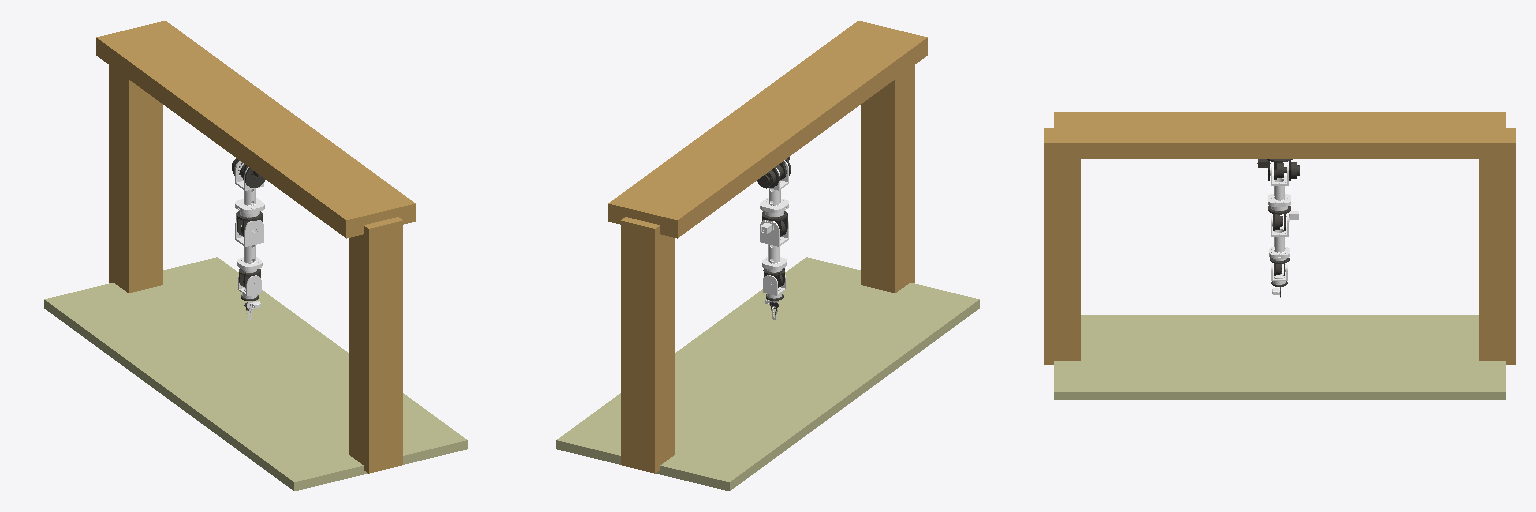
robot.urdf — daadbot:
<?xml version='1.0' encoding='utf-8'?>
<robot name="daadbot">
  
  <gazebo>
    <plugin filename="ign_ros2_control-system" name="ign_ros2_control::IgnitionROS2ControlPlugin">
      <parameters>/home/maryammahmood/xdaadbot_ws/install/daadbot_controller/share/daadbot_controller/config/effort_command_controller.yaml</parameters>
    </plugin>
  </gazebo>
  <ros2_control name="Manipulator" type="system">
    <hardware>
      <plugin>ign_ros2_control/IgnitionSystem</plugin>
    </hardware>
    <joint name="base_claw_joint1">
      <param name="mimic">gear1_joint</param>
      <param name="multiplier">-1</param>
      <state_interface name="position" />
      <state_interface name="velocity" />
      <state_interface name="effort" />
    </joint>
    <joint name="claw_joint1">
      <param name="mimic">base_claw_joint1</param>
      <param name="multiplier">1</param>
      <state_interface name="position" />
      <state_interface name="velocity" />
      <state_interface name="effort" />
    </joint>
    <joint name="gear2_joint">
      <param name="mimic">gear1_joint</param>
      <param name="multiplier">-1</param>
      <state_interface name="position" />
      <state_interface name="velocity" />
      <state_interface name="effort" />
    </joint>
    <joint name="base_claw_joint2">
      <param name="mimic">gear1_joint</param>
      <param name="multiplier">-1</param>
      <state_interface name="position" />
      <state_interface name="velocity" />
      <state_interface name="effort" />
    </joint>
    <joint name="claw_joint2">
      <param name="mimic">base_claw_joint2</param>
      <param name="multiplier">-1</param>
      <state_interface name="position" />
      <state_interface name="velocity" />
      <state_interface name="effort" />
    </joint>
    <joint name="joint_1">
      <command_interface name="effort">
        <param name="min">-18</param>
        <param name="max">18</param>
      </command_interface>
      <state_interface name="position" />
      <state_interface name="velocity" />
      <state_interface name="effort" />
    </joint>
    <joint name="joint_2">
      <command_interface name="effort">
        <param name="min">-39</param>
        <param name="max">39</param>
      </command_interface>
      <state_interface name="position" />
      <state_interface name="velocity" />
      <state_interface name="effort" />
    </joint>
    <joint name="joint_3">
      <command_interface name="effort">
        <param name="min">-18</param>
        <param name="max">18</param>
      </command_interface>
      <state_interface name="position" />
      <state_interface name="velocity" />
      <state_interface name="effort" />
    </joint>
    <joint name="joint_4">
      <command_interface name="effort">
        <param name="min">-18</param>
        <param name="max">18</param>
      </command_interface>
      <state_interface name="position" />
      <state_interface name="velocity" />
      <state_interface name="effort" />
    </joint>
    <joint name="joint_5">
      <command_interface name="effort">
        <param name="min">-5</param>
        <param name="max">5</param>
      </command_interface>
      <state_interface name="position" />
      <state_interface name="velocity" />
      <state_interface name="effort" />
    </joint>
    <joint name="joint_6">
      <command_interface name="effort">
        <param name="min">-5</param>
        <param name="max">5</param>
      </command_interface>
      <state_interface name="position" />
      <state_interface name="velocity" />
      <state_interface name="effort" />
    </joint>
    <joint name="joint_7">
      <command_interface name="effort">
        <param name="min">-5</param>
        <param name="max">5</param>
      </command_interface>
      <state_interface name="position" />
      <state_interface name="velocity" />
      <state_interface name="effort" />
    </joint>
    <joint name="gear1_joint">
      <command_interface name="effort">
        <param name="min">-180</param>
        <param name="max">180</param>
      </command_interface>
      <state_interface name="position" />
      <state_interface name="velocity" />
      <state_interface name="effort" />
    </joint>
  </ros2_control>
  <link name="table_top">
    <inertial>
      <origin rpy="0 0 0" xyz="-0.000629 -0.000566 0.516365" />
      <mass value="48.095098" />
      <inertia ixx="10.0" ixy="0" ixz="0" iyy="10.0" iyz="0" izz="10.0" />
    </inertial>
    <visual>
      <origin rpy="0 0 0" xyz="0 0 0" />
      <geometry>
        <box size="1.0 2.5 0.05" />
      </geometry>
      <material name="grey_base">
        <color rgba="0.81 0.81 0.63 1" />
      </material>
    </visual>
    <collision>
      <origin rpy="0 0 0" xyz="0 0 0" />
      <geometry>
        <box size="1.0 2.5 0.05" />
      </geometry>
    </collision>
    <visual>
      <origin rpy="0 0 0" xyz="0 1.2 0.675" />
      <geometry>
        <box size="0.2 0.2 1.35" />
      </geometry>
      <material name="wood_pillar_l">
        <color rgba="0.81 0.66 0.41 1" />
      </material>
    </visual>
    <collision>
      <origin rpy="0 0 0" xyz="0 1.2 0.675" />
      <geometry>
        <box size="0.2 0.2 1.35" />
      </geometry>
    </collision>
    <visual>
      <origin rpy="0 0 0" xyz="0 -1.2 0.675" />
      <geometry>
        <box size="0.2 0.2 1.35" />
      </geometry>
      <material name="wood_pillar_r">
        <color rgba="0.81 0.66 0.41 1" />
      </material>
    </visual>
    <collision>
      <origin rpy="0 0 0" xyz="0 -1.2 0.675" />
      <geometry>
        <box size="0.2 0.2 1.35" />
      </geometry>
    </collision>
    <visual>
      <origin rpy="0 0 0" xyz="0 0 1.35" />
      <geometry>
        <box size="0.4 2.5 0.1" />
      </geometry>
      <material name="wood_beam">
        <color rgba="0.81 0.66 0.41 1" />
      </material>
    </visual>
    <collision>
      <origin rpy="0 0 0" xyz="0 0 1.35" />
      <geometry>
        <box size="0.4 2.5 0.1" />
      </geometry>
    </collision>
  </link>
  <link name="table_link1">
    <inertial>
      <origin rpy="0 0 0" xyz="-0.000277 0.000799 0.000069" />
      <mass value="0.000993" />
      <inertia ixx="0.0001" ixy="0" ixz="0" iyy="0.0001" iyz="0" izz="0.0001" />
    </inertial>
  </link>
  <joint name="jnt1" type="fixed">
    <origin rpy="-1.5708 0 3.1416" xyz="0.005 0 1.28" />
    <parent link="table_top" />
    <child link="table_link1" />
    <axis xyz="0 0 0" />
  </joint>
  
  <link name="world" />
  
  <joint name="table_joint" type="fixed">
    <parent link="world" />
    <child link="table_top" />
    <origin rpy="0 0 0" xyz="0 0 0" />
    
  </joint>
  
  <joint name="base_joint" type="fixed">
    <parent link="table_top" />
    <child link="base_link" />
    <origin rpy="0 3.14 0" xyz="0.000 0.0 1.285" />
    
    
    
  </joint>
  <link name="base_link">
    <inertial>
      <origin rpy="0 0 0" xyz="-0.002484 -0.001242 0.003455" />
      <mass value="7.234380" />
      <inertia ixx="0.0466171750852481" ixy="0.00010076855342015" ixz="5.14819747192778E-08" iyy="0.0464821203083076" iyz="-1.44621889265211E-07" izz="0.0929840869855057" />
    </inertial>
    <visual>
      <origin rpy="0 0 0" xyz="0 0 0" />
      <geometry>
        <mesh filename="package://daadbot_desc/meshes/base_link.STL" />
      </geometry>
      <material name="">
        <color rgba="1 1 1 1" />
      </material>
    </visual>
    <collision>
      <origin rpy="0 0 0" xyz="0 0 0" />
      <geometry>
        <mesh filename="package://daadbot_desc/meshes/base_link.STL" />
      </geometry>
    </collision>
  </link>
  <link name="Link_1">
    <inertial>
      <origin rpy="0 0 3.14" xyz="0.022082 0.000889 0.076632" />
      <mass value="1.708949" />
      <inertia ixx="0.002476" ixy="0.000000" ixz="-0.000323" iyy="0.003903" iyz="0.000000" izz="0.003120" />
    </inertial>
    <visual>
      <origin rpy="0 0 0" xyz="0 0 0" />
      <geometry>
        <mesh filename="package://daadbot_desc/meshes/Link_1.STL" />
      </geometry>
      <material name="">
        <color rgba="0.329 0.322 0.302 1" />
      </material>
    </visual>
    <collision>
      <origin rpy="0 0 0" xyz="0 0 0" />
      <geometry>
        <mesh filename="package://daadbot_desc/meshes/Link_1.STL" />
      </geometry>
    </collision>
  </link>
  <joint name="joint_1" type="revolute">
    <origin rpy="0 0 0" xyz="-0.0029638 -0.0015759 0.04796" />
    <parent link="base_link" />
    <child link="Link_1" />
    <axis xyz="0 0 -1" />
    <limit effort="40.0" lower="-3.2" upper="3.2" velocity="1.2" />
    <dynamics damping="0.3" friction="0.0" />
  </joint>
  <gazebo reference="joint_1">
    <sensor name="ft_sensor_joint_1" type="force_torque">
      <always_on>true</always_on>
      <update_rate>1000</update_rate>
      <force_torque>
        <frame>child</frame>
        <measure_direction>child_to_parent</measure_direction>
      </force_torque>
      <pose>0 0 0 0 0 0</pose>
    </sensor>
  </gazebo>
  <link name="Link_2">
    <inertial>
      <origin rpy="0 0 0" xyz="0.121005 0.000209 -0.046027" />
      <mass value="2.831867" />
      <inertia ixx="0.004942" ixy="0.000002" ixz="0.000000" iyy="0.003300" iyz="0.000000" izz="0.003973" />
    </inertial>
    <visual>
      <origin rpy="0 0 0" xyz="0 0 0" />
      <geometry>
        <mesh filename="package://daadbot_desc/meshes/Link_2.STL" />
      </geometry>
      <material name="">
        <color rgba="1 1 1 1" />
      </material>
    </visual>
    <collision>
      <origin rpy="0 0 0" xyz="0 0 0" />
      <geometry>
        <mesh filename="package://daadbot_desc/meshes/Link_2.STL" />
      </geometry>
    </collision>
  </link>
  <joint name="joint_2" type="revolute">
    <origin rpy="1.57 -1.57 0" xyz="0.0400000000000002 -0.050000000000002 0.114463048454132" />
    <parent link="Link_1" />
    <child link="Link_2" />
    <axis xyz="0 0 -1" />
    <limit effort="40.0" lower="-1.745" upper="1.745" velocity="1.2" />
    <dynamics damping="0.3" friction="0.0" />
    <sensor name="force_torque" type="force_torque">
      <update_rate>30</update_rate>
    </sensor>
  </joint>
  <link name="Link_3">
    <inertial>
      <origin rpy="0 0 0" xyz="-0.004696 -0.000024 0.046359" />
      <mass value="0.496334" />
      <inertia ixx="0.000799" ixy="0.000000" ixz="0.000001" iyy="0.000500" iyz="0.000000" izz="0.000606" />
    </inertial>
    <visual>
      <origin rpy="0 0 0" xyz="0 0 0" />
      <geometry>
        <mesh filename="package://daadbot_desc/meshes/Link_3.STL" />
      </geometry>
      <material name="">
        <color rgba="0.329 0.322 0.302 1" />
      </material>
    </visual>
    <collision>
      <origin rpy="0 0 0" xyz="0 0 0" />
      <geometry>
        <mesh filename="package://daadbot_desc/meshes/Link_3.STL" />
      </geometry>
    </collision>
  </link>
  <joint name="joint_3" type="revolute">
    <origin rpy="0 1.5707963267949 0" xyz="0.234499999999998 0 -0.0495000000000002" />
    <parent link="Link_2" />
    <child link="Link_3" />
    <axis xyz="0 0 -1" />
    <limit effort="40.0" lower="-7.0" upper="7.0" velocity="1.2" />
    <dynamics damping="0.3" friction="0.0" />
  </joint>
  <link name="Link_4">
    <inertial>
      <origin rpy="0 0 0" xyz="-0.109540 -0.000145 0.036783" />
      <mass value="0.759921" />
      <inertia ixx="0.000912" ixy="0.000001" ixz="-0.000000" iyy="0.000705" iyz="-0.000000" izz="0.000868" />
    </inertial>
    <visual>
      <origin rpy="0 0 0" xyz="0 0 0" />
      <geometry>
        <mesh filename="package://daadbot_desc/meshes/Link_4.STL" />
      </geometry>
      <material name="">
        <color rgba="1 1 1 1" />
      </material>
    </visual>
    <collision>
      <origin rpy="0 0 0" xyz="0 0 0" />
      <geometry>
        <mesh filename="package://daadbot_desc/meshes/Link_4.STL" />
      </geometry>
    </collision>
  </link>
  <joint name="joint_4" type="revolute">
    <origin rpy="0 1.5707963267949 0" xyz="-0.0324999999999996 0 0.0750000000000004" />
    <parent link="Link_3" />
    <child link="Link_4" />
    <axis xyz="0 0 -1" />
    <limit effort="40.0" lower="-1.745" upper="1.745" velocity="1.2" />
    <dynamics damping="0.3" friction="0.0" />
  </joint>
  <link name="Link_5">
    <inertial>
      <origin rpy="3.14 0 0" xyz="0.006327 0.000038 0.047318" />
      <mass value="1.525283" />
      <inertia ixx="0.001329" ixy="0.000002" ixz="-0.000001" iyy="0.000817" iyz="-0.000000" izz="0.000965" />
    </inertial>
    <visual>
      <origin rpy="0 0 0" xyz="0 0 0" />
      <geometry>
        <mesh filename="package://daadbot_desc/meshes/Link_5.STL" />
      </geometry>
      <material name="">
        <color rgba="0.329 0.322 0.302 1" />
      </material>
    </visual>
    <collision>
      <origin rpy="0 0 0" xyz="0 0 0" />
      <geometry>
        <mesh filename="package://daadbot_desc/meshes/Link_5.STL" />
      </geometry>
    </collision>
  </link>
  <joint name="joint_5" type="revolute">
    <origin rpy="3.14159265358979 1.5707963267949 0" xyz="-0.2284999036789 0 0.0330000000000004" />
    <parent link="Link_4" />
    <child link="Link_5" />
    <axis xyz="0 0 -1" />
    <limit effort="15" lower="-3.2" upper="3.4" velocity="1.2" />
    <dynamics damping="0.3" friction="0.0" />
  </joint>
  <link name="Link_6">
    <inertial>
      <origin rpy="0 0 0" xyz="-0.053412 0.000043 0.028306" />
      <mass value="1.747265" />
      <inertia ixx="0.001369" ixy="0.000001" ixz="-0.000004" iyy="0.000963" iyz="-0.000004" izz="0.001202" />
    </inertial>
    <visual>
      <origin rpy="0 0 0" xyz="0 0 0" />
      <geometry>
        <mesh filename="package://daadbot_desc/meshes/link_6.STL" />
      </geometry>
      <material name="">
        <color rgba="1 1 1 1" />
      </material>
    </visual>
    <collision>
      <origin rpy="0 0 0" xyz="0 0 0" />
      <geometry>
        <mesh filename="package://daadbot_desc/meshes/link_6.STL" />
      </geometry>
    </collision>
  </link>
  <joint name="joint_6" type="revolute">
    <origin rpy="-1.57 1.57 -1.57" xyz="-0.0265000104908596 0 0.0575000000000075" />
    <parent link="Link_5" />
    <child link="Link_6" />
    <axis xyz="0 0 -1" />
    <limit effort="15" lower="-1.57" upper="1.57" velocity="1.2" />
    <dynamics damping="0.3" friction="0.0" />
  </joint>
  <link name="Link_7">
    <inertial>
      <origin rpy="0 0 0" xyz="-0.000039 0.000446 -0.003787" />
      <mass value="0.112604" />
      <inertia ixx="0.000061" ixy="0.000000" ixz="0.000000" iyy="0.000061" iyz="0.000000" izz="0.000120" />
    </inertial>
    <visual>
      <origin rpy="0 0 0" xyz="0 0 0" />
      <geometry>
        <mesh filename="package://daadbot_desc/meshes/Link_7.STL" />
      </geometry>
      <material name="">
        <color rgba="0.329 0.322 0.302 1" />
      </material>
    </visual>
    <collision>
      <origin rpy="0 0 0" xyz="0 0 0" />
      <geometry>
        <mesh filename="package://daadbot_desc/meshes/Link_7.STL" />
      </geometry>
    </collision>
  </link>
  <joint name="joint_7" type="revolute">
    <origin rpy="0 1.5707963267949 0" xyz="-0.0864999036793499 0 0.0280000000004628" />
    <parent link="Link_6" />
    <child link="Link_7" />
    <axis xyz="0 0 -1" />
    <limit effort="15" lower="-3.2" upper="3.2" velocity="1.2" />
    <dynamics damping="0.3" friction="0.0" />
  </joint>
  <link name="endeffector">
    <inertial>
      <origin rpy="0 0 0" xyz="0.011198 -0.013863 0.024599" />
      <mass value="0.155172" />
      <inertia ixx="3.1964247663854E-05" ixy="1.07138220152465E-07" ixz="4.30086683390955E-12" iyy="2.53636526523542E-05" iyz="-9.8230347105402E-08" izz="4.73802906093003E-05" />
    </inertial>
    <visual>
      <origin rpy="0 0 0" xyz="0 0 0" />
      <geometry>
        <mesh filename="package://daadbot_desc/meshes/endeffector.STL" />
      </geometry>
      <material name="">
        <color rgba="1 1 1 1" />
      </material>
    </visual>
    <collision>
      <origin rpy="0 0 0" xyz="0 0 0" />
      <geometry>
        <mesh filename="package://daadbot_desc/meshes/endeffector.STL" />
      </geometry>
    </collision>
  </link>
  <joint name="endeffector_joint" type="fixed">
    <origin rpy="3.14159265357033 0 -3.14159265358979" xyz="0 0 -0.00799999999954315" />
    <parent link="Link_7" />
    <child link="endeffector" />
    <axis xyz="0 0 0" />
  </joint>
  <link name="gear1">
    <inertial>
      <origin rpy="0 0 0" xyz="-0.006223 0.000459 -0.001629" />
      <mass value="0.004866" />
      <inertia ixx="1.81056909473447E-07" ixy="-3.82652046422796E-08" ixz="2.51961968784482E-22" iyy="7.53619126673464E-07" iyz="-2.84205585058754E-24" izz="9.26725977849795E-07" />
    </inertial>
    <visual>
      <origin rpy="0 0 0" xyz="0 0 0" />
      <geometry>
        <mesh filename="package://daadbot_desc/meshes/gear1.STL" />
      </geometry>
      <material name="">
        <color rgba="0.329 0.322 0.302 1" />
      </material>
    </visual>
    <collision>
      <origin rpy="0 0 0" xyz="0 0 0" />
      <geometry>
        <mesh filename="package://daadbot_desc/meshes/gear1.STL" />
      </geometry>
    </collision>
  </link>
  <joint name="gear1_joint" type="revolute">
    <origin rpy="0 1.5707963267949 0" xyz="-0.00375000000000747 -0.013499999998183 0.0376789689084349" />
    <parent link="endeffector" />
    <child link="gear1" />
    <axis xyz="0 0 -1" />
    <limit effort="5" lower="-0.9" upper="0" velocity="0.0" />
    <dynamics damping="0.3" friction="0.0" />
  </joint>
  <link name="gear1_claw">
    <inertial>
      <origin rpy="0 0 0" xyz="0.023297 0.005081 -0.001531" />
      <mass value="0.004035" />
      <inertia ixx="6.08354279127517E-08" ixy="-1.63551242432612E-07" ixz="1.2492000495084E-21" iyy="1.21174464720854E-06" iyz="1.75066929433463E-22" izz="1.26667392866791E-06" />
    </inertial>
    <visual>
      <origin rpy="0 0 0" xyz="0 0 0" />
      <geometry>
        <mesh filename="package://daadbot_desc/meshes/gear1_claw.STL" />
      </geometry>
      <material name="">
        <color rgba="1 1 1 1" />
      </material>
    </visual>
    <collision>
      <origin rpy="0 0 0" xyz="0 0 0" />
      <geometry>
        <mesh filename="package://daadbot_desc/meshes/gear1_claw.STL" />
      </geometry>
    </collision>
  </link>
  <joint name="claw_joint1" type="revolute">
    <origin rpy="3.14159265358979 0 3.14159265358979" xyz="-0.0309835156221249 -0.00101082129116717 0" />
    <parent link="gear1" />
    <child link="gear1_claw" />
    <axis xyz="0 0 1" />
    <limit effort="5" lower="0" upper="0.9" velocity="10" />
    <mimic joint="base_claw_joint1" multiplier="1" offset="0" />
  </joint>
  <link name="gear2_link">
    <inertial>
      <origin rpy="0 0 0" xyz="-0.005078 0.000141 -0.003799" />
      <mass value="0.006158" />
      <inertia ixx="2.15932056711738E-07" ixy="1.70682493885657E-08" ixz="-3.42106080174724E-22" iyy="8.04260102723523E-07" iyz="-8.82852580465177E-23" izz="1.01154671272608E-06" />
    </inertial>
    <visual>
      <origin rpy="0 0 0" xyz="0 0 0" />
      <geometry>
        <mesh filename="package://daadbot_desc/meshes/gear2_link.STL" />
      </geometry>
      <material name="">
        <color rgba="0.329 0.322 0.302 1" />
      </material>
    </visual>
    <collision>
      <origin rpy="0 0 0" xyz="0 0 0" />
      <geometry>
        <mesh filename="package://daadbot_desc/meshes/gear2_link.STL" />
      </geometry>
    </collision>
  </link>
  <joint name="gear2_joint" type="revolute">
    <origin rpy="0 1.5707963267949 0" xyz="-0.00149999999999997 0.0134999999992435 0.0376789689087047" />
    <parent link="endeffector" />
    <child link="gear2_link" />
    <axis xyz="0 0 -1" />
    <limit effort="5" lower="-0.9" upper="0.9" velocity="10" />
    <mimic joint="gear1_joint" multiplier="-1" offset="0" />
  </joint>
  <link name="gear2_claw">
    <inertial>
      <origin rpy="0 0 0" xyz="0.023766 -0.005263 -0.001522" />
      <mass value="0.003904" />
      <inertia ixx="6.0833747461621E-08" ixy="1.63545329654284E-07" ixz="1.24391026243428E-21" iyy="1.21174632765968E-06" iyz="-1.76544893665412E-22" izz="1.26667392866792E-06" />
    </inertial>
    <visual>
      <origin rpy="0 0 0" xyz="0 0 0" />
      <geometry>
        <mesh filename="package://daadbot_desc/meshes/gear2_claw.STL" />
      </geometry>
      <material name="">
        <color rgba="1 1 1 1" />
      </material>
    </visual>
    <collision>
      <origin rpy="0 0 0" xyz="0 0 0" />
      <geometry>
        <mesh filename="package://daadbot_desc/meshes/gear2_claw.STL" />
      </geometry>
    </collision>
  </link>
  <joint name="claw_joint2" type="revolute">
    <origin rpy="-3.14159265358979 0 -3.14159265358979" xyz="-0.0309869843208653 0.000898221965043244 -0.00225000000000025" />
    <parent link="gear2_link" />
    <child link="gear2_claw" />
    <axis xyz="0 0 1" />
    <limit effort="5" lower="-0.9" upper="0" velocity="10" />
    <mimic joint="base_claw_joint2" multiplier="-1" offset="0" />
  </joint>
  <link name="base_claw_link2">
    <inertial>
      <origin rpy="0 0 0" xyz="0.015661 0.000455 0.003869" />
      <mass value="0.001096" />
      <inertia ixx="3.26224455905998E-09" ixy="-4.45032069336059E-09" ixz="1.4396798294983E-22" iyy="1.54535887182587E-07" iyz="2.999466098399E-24" izz="1.56149541453459E-07" />
    </inertial>
    <visual>
      <origin rpy="0 0 0" xyz="0 0 0" />
      <geometry>
        <mesh filename="package://daadbot_desc/meshes/base_claw_link2.STL" />
      </geometry>
      <material name="">
        <color rgba="0.329 0.322 0.302 1" />
      </material>
    </visual>
    <collision>
      <origin rpy="0 0 0" xyz="0 0 0" />
      <geometry>
        <mesh filename="package://daadbot_desc/meshes/base_claw_link2.STL" />
      </geometry>
    </collision>
  </link>
  <joint name="base_claw_joint2" type="revolute">
    <origin rpy="0 1.5707963267949 0" xyz="0.00149999999999995 0.00524999999997672 -0.066078968907985" />
    <parent link="Link_7" />
    <child link="base_claw_link2" />
    <axis xyz="0 0 1" />
    <limit effort="5" lower="0" upper="0.9" velocity="10" />
    <mimic joint="gear1_joint" multiplier="-1" offset="0" />
  </joint>
  <link name="base_claw_link1">
    <inertial>
      <origin rpy="0 0 0" xyz="0.015439 -0.000506 0.003743" />
      <mass value="0.001138" />
      <inertia ixx="3.29655315677714E-09" ixy="4.99941634031931E-09" ixz="2.46402439239775E-22" iyy="1.54501578584872E-07" iyz="-9.36354721708262E-24" izz="1.56149541453461E-07" />
    </inertial>
    <visual>
      <origin rpy="0 0 0" xyz="0 0 0" />
      <geometry>
        <mesh filename="package://daadbot_desc/meshes/base_claw_link1.STL" />
      </geometry>
      <material name="">
        <color rgba="1 1 1 1" />
      </material>
    </visual>
    <collision>
      <origin rpy="0 0 0" xyz="0 0 0" />
      <geometry>
        <mesh filename="package://daadbot_desc/meshes/base_claw_link1.STL" />
      </geometry>
    </collision>
  </link>
  <joint name="base_claw_joint1" type="revolute">
    <origin rpy="0 1.5707963267949 0" xyz="0.00149999999999995 -0.00525000000002329 -0.066078968907985" />
    <parent link="Link_7" />
    <child link="base_claw_link1" />
    <axis xyz="0 0 -1" />
    <limit effort="5" lower="0" upper="0.9" velocity="10" />
    <mimic joint="gear1_joint" multiplier="-1" offset="0" />
  </joint>
</robot>

--- What the picture shows (computed from the rendered views, not written in the file) ---
3 views of the same robot in one strip: view 1: azimuth 30°, elevation 25°; view 2: azimuth 150°, elevation 25°; view 3: azimuth 270°, elevation 25° (orthographic).
Model daadbot with 18 links and 17 joints (13 revolute, 4 fixed), rooted at world, posed every joint at zero.
Visible links, largest first — view 1: table_top, Link_4, Link_2; view 2: table_top, Link_4, Link_2; view 3: table_top, Link_4, Link_2, Link_1.
Boxes of the visible links, left/top/right/bottom form: table_top: left=44, top=21, right=467, bottom=490; Link_4: left=235, top=212, right=263, bottom=272; Link_2: left=235, top=161, right=264, bottom=217; table_top: left=556, top=21, right=979, bottom=490; Link_4: left=760, top=220, right=788, bottom=272; Link_2: left=760, top=160, right=788, bottom=216; table_top: left=1044, top=112, right=1515, bottom=399; Link_4: left=1269, top=211, right=1298, bottom=260; Link_2: left=1268, top=161, right=1290, bottom=210; Link_1: left=1257, top=159, right=1299, bottom=180.
Bounding box of the posed robot: 1 × 2.6 × 1.43 m (x, y, z).
Meshes: 15 distinct files referenced, 15 mesh visuals loaded (15 binary STL).
